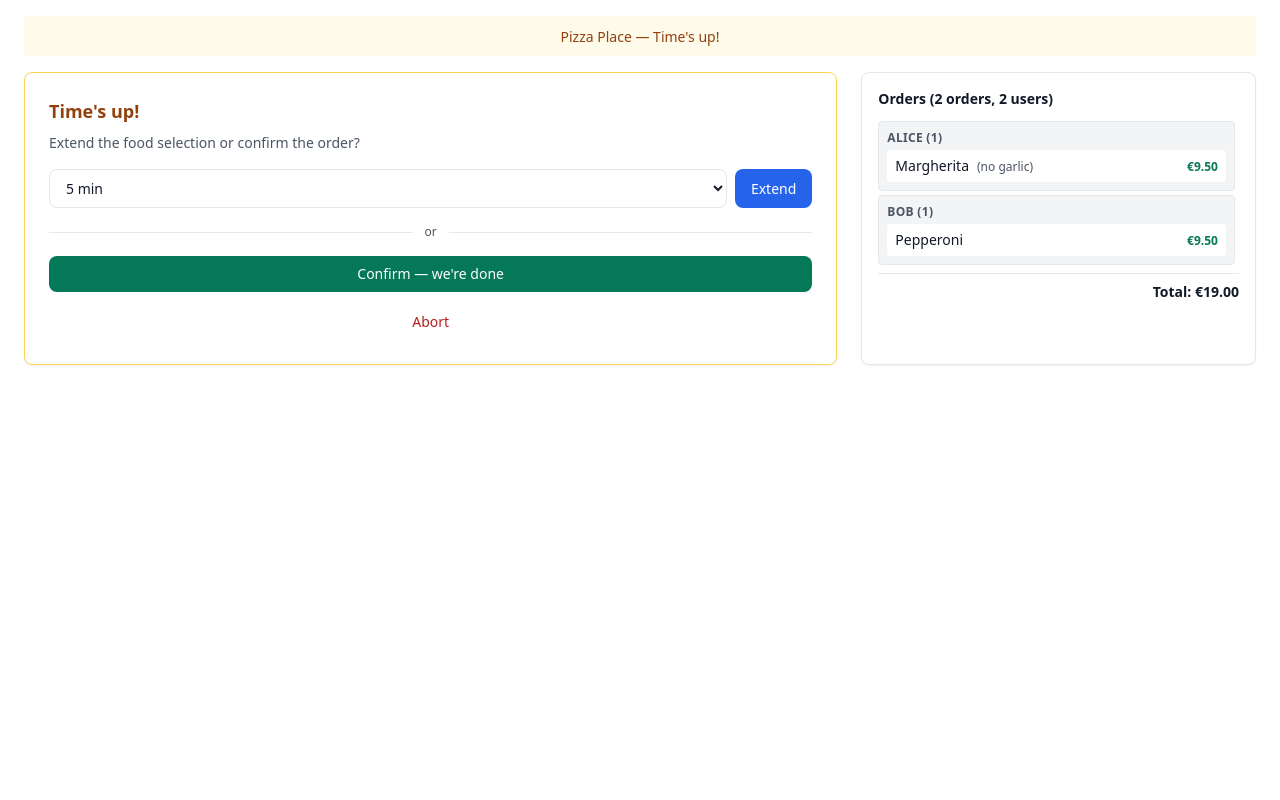
Test case: FoodSelectionOvertimeView › shows API error on failure
Click the button "Extend" at (774, 188), box top-left (735, 169), bottom-right (812, 208)
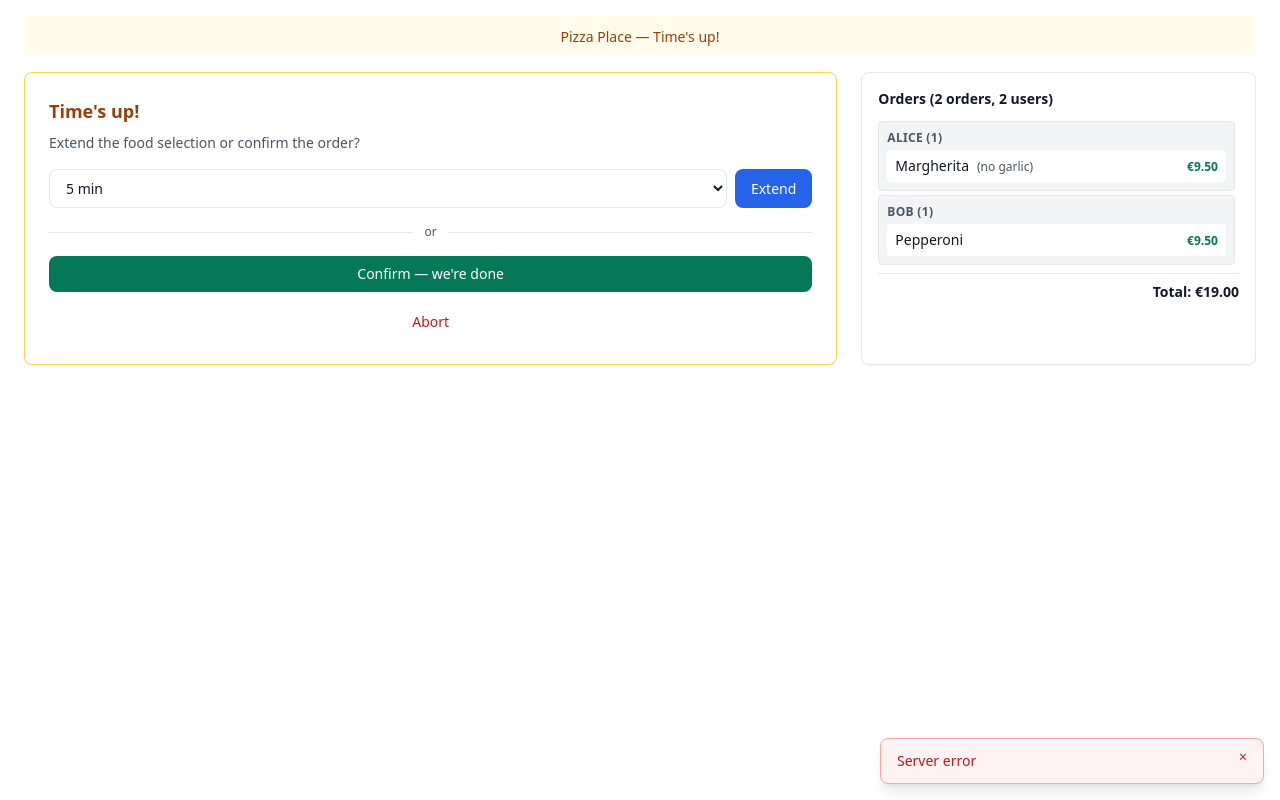
expect the text "Server error" is shown: met, box top-left (897, 751), bottom-right (976, 770)
